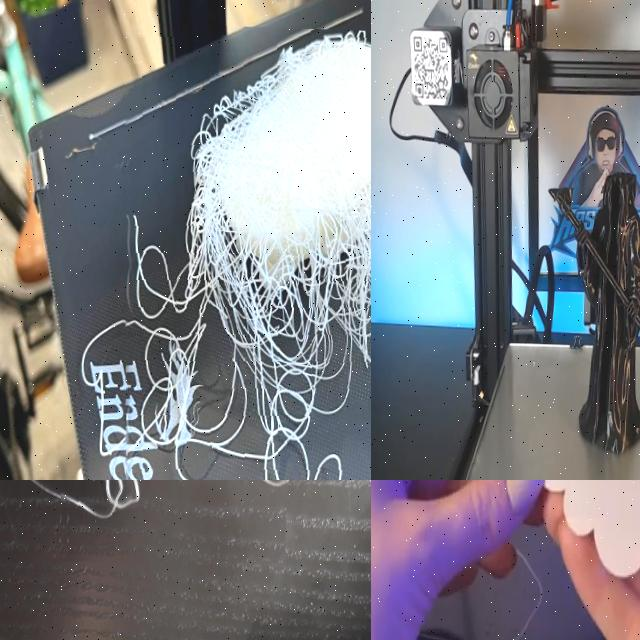spaghetti: (107, 22, 371, 480), (52, 480, 292, 568)
